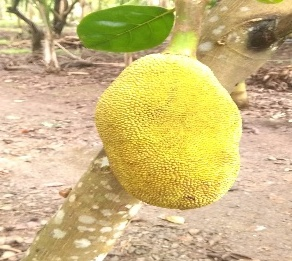Mit: (97, 53, 243, 210)
